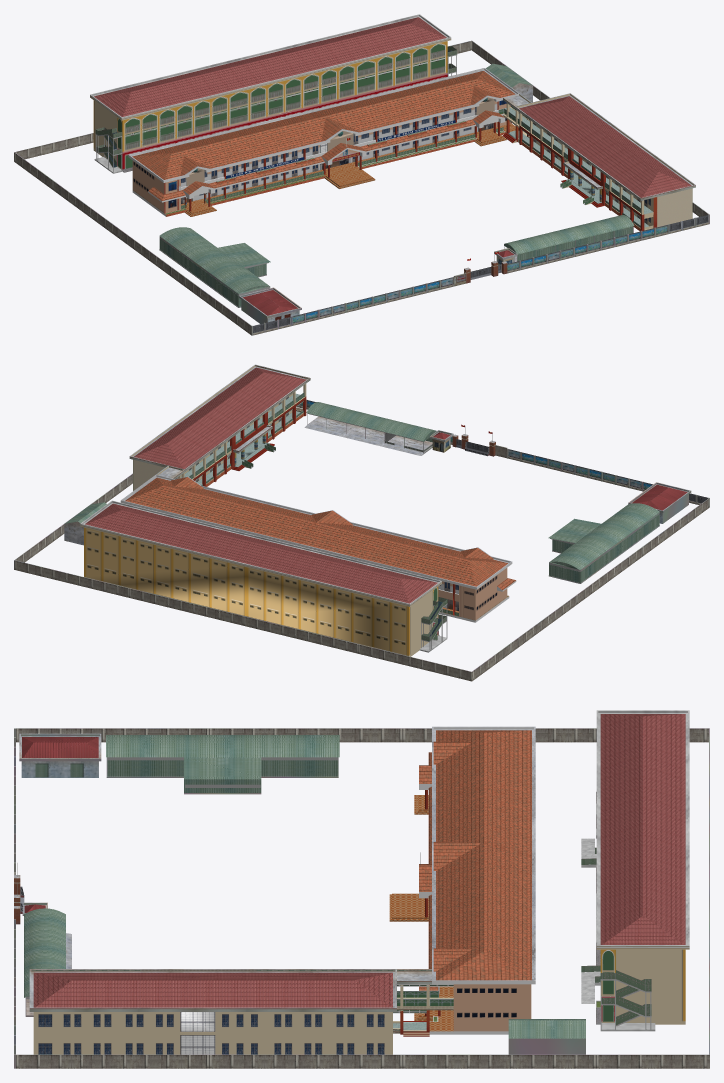
File: Truong tieu hoc Tan Binh B.glb
The picture shows the model from 3 angles, top to bottom: view 1: azimuth 30°, elevation 25°; view 2: azimuth 150°, elevation 25°; view 3: azimuth 270°, elevation 25°; orthographic projection. The views are drawn at different scales.
Visible parts, largest first — view 1: 03_Cong_trinh_3, 04_Cong_trinh_4_, 01_Cong_trinh_1, 02_Cong_trinh_2; view 2: 04_Cong_trinh_4_, 01_Cong_trinh_1, 03_Cong_trinh_3, 02_Cong_trinh_2; view 3: 01_Cong_trinh_1, 03_Cong_trinh_3, 02_Cong_trinh_2, 04_Cong_trinh_4_.
Boxes of the visible parts, x1,y1,x2,y2 form: 03_Cong_trinh_3: (128, 68, 519, 216); 04_Cong_trinh_4_: (90, 14, 457, 173); 01_Cong_trinh_1: (14, 40, 709, 335); 02_Cong_trinh_2: (498, 93, 695, 231); 04_Cong_trinh_4_: (80, 500, 447, 656); 01_Cong_trinh_1: (14, 399, 709, 681); 03_Cong_trinh_3: (120, 474, 516, 622); 02_Cong_trinh_2: (129, 364, 310, 490); 01_Cong_trinh_1: (14, 728, 709, 1068); 03_Cong_trinh_3: (389, 726, 535, 1034); 02_Cong_trinh_2: (29, 969, 453, 1054); 04_Cong_trinh_4_: (581, 710, 689, 1031).
Bounding box in the file's own units: 100 × 13.25 × 90.
4 materials, 4 textured.
